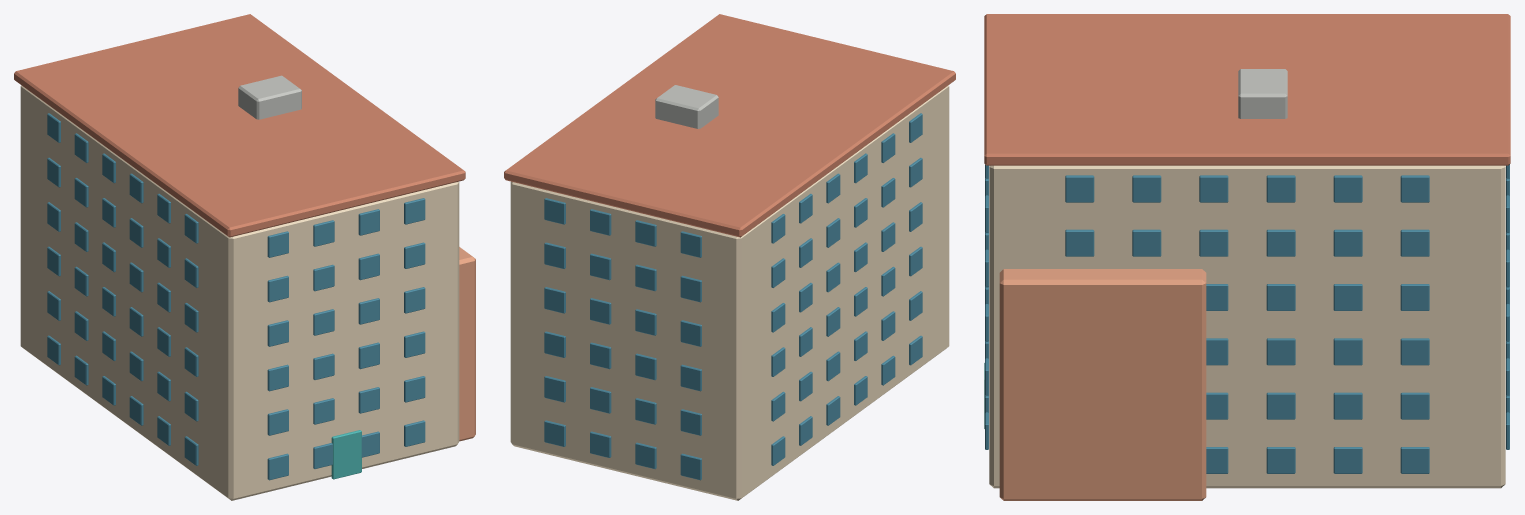
File: RES_MID_2x3_005.glb
3 renders of one model, left to right at view 1: azimuth 30°, elevation 25°; view 2: azimuth 150°, elevation 25°; view 3: azimuth 270°, elevation 25°, orthographic. The views are drawn at different scales.
Parts seen in each view (by area): view 1: RES_MID_2x3_005_Visual; view 2: RES_MID_2x3_005_Visual; view 3: RES_MID_2x3_005_Visual.
Boxes of the visible parts, x1,y1,x2,y2 form: RES_MID_2x3_005_Visual: (14, 14, 475, 500); RES_MID_2x3_005_Visual: (504, 14, 955, 500); RES_MID_2x3_005_Visual: (984, 14, 1510, 500).
Size of what is drawn, in the model's own units: 3.48 by 3.87 by 5.1.
